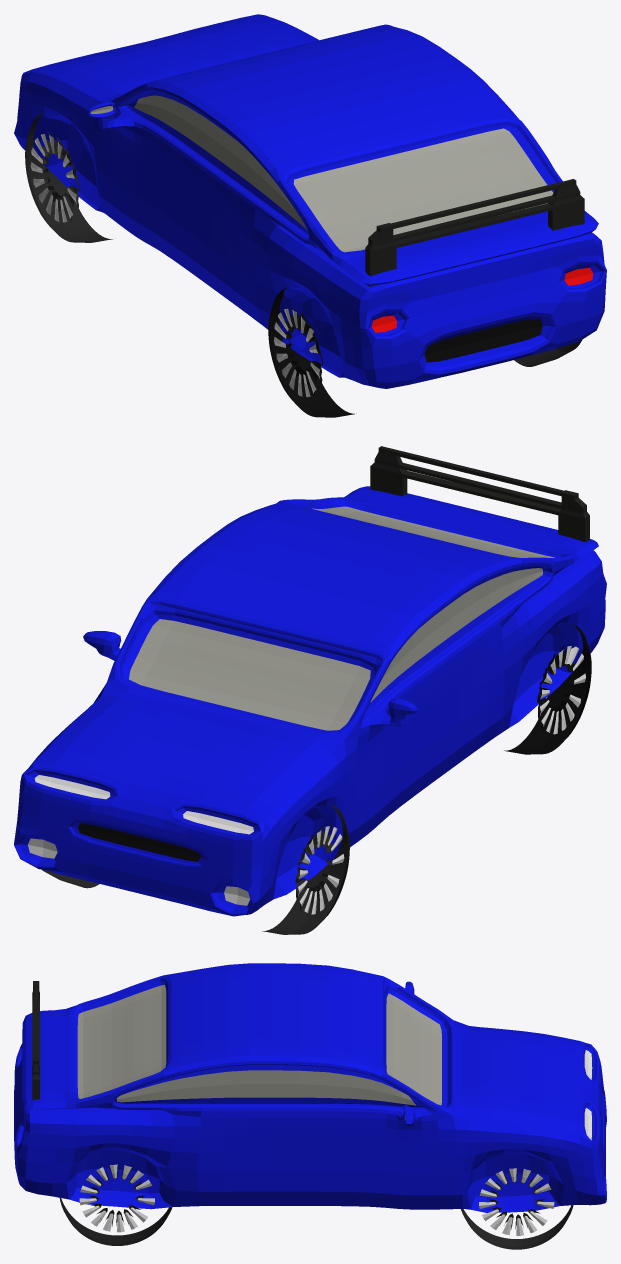
The model's file is car_low_poly.fbx.
3 renders of one model, top to bottom at view 1: azimuth 30°, elevation 25°; view 2: azimuth 150°, elevation 25°; view 3: azimuth 270°, elevation 25°, orthographic. The views are drawn at different scales.
Parts seen in each view (by area): view 1: Cube, Cube.001, Circle.003, Circle.002, Circle; view 2: Cube, Cube.001, Circle.003, Circle.002; view 3: Cube, Circle, Circle.001, Cube.001.
Part boxes in pixels (box(x1,y1,x2,y2)): Cube: box(14, 14, 606, 388); Cube.001: box(365, 179, 584, 286); Circle.003: box(268, 287, 356, 417); Circle.002: box(25, 112, 112, 242); Circle: box(514, 340, 581, 366); Cube: box(14, 486, 606, 916); Cube.001: box(370, 446, 589, 542); Circle.003: box(504, 624, 591, 754); Circle.002: box(262, 804, 349, 934); Cube: box(14, 963, 606, 1212); Circle: box(59, 1164, 172, 1245); Circle.001: box(461, 1168, 573, 1249); Cube.001: box(32, 981, 39, 1100).
Size of the model in its own units: 880 by 597 by 1637.
